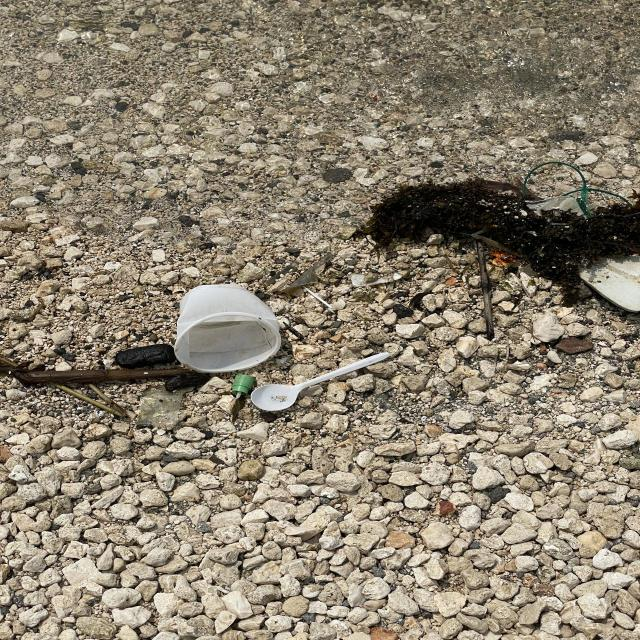plastic_waste: (178, 285, 284, 379)
